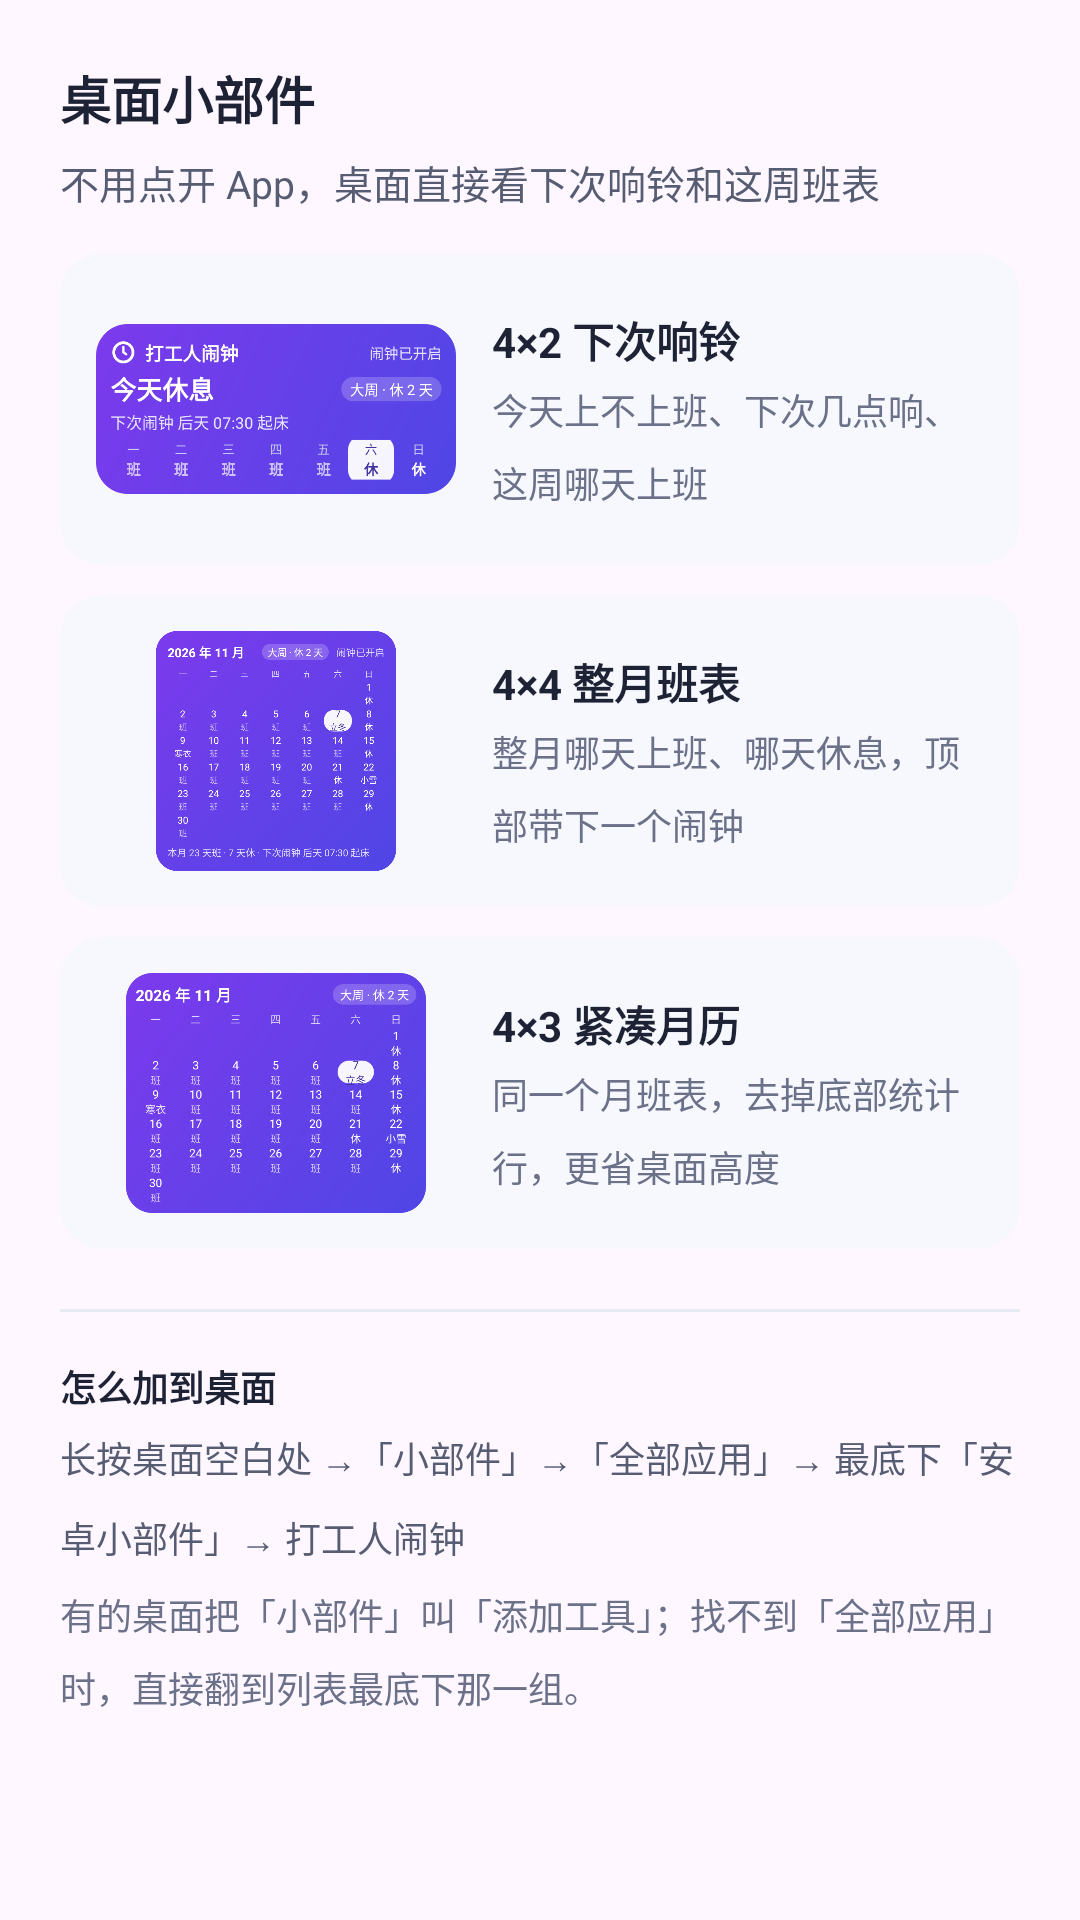

Locate icon controls on the screen. Image size 1080×1920, boxes as (x1, y1, x2, y2).
下次响铃预览: (96, 324, 456, 494)
整月班表预览: (156, 631, 396, 871)
紧凑月历预览: (126, 973, 426, 1213)
